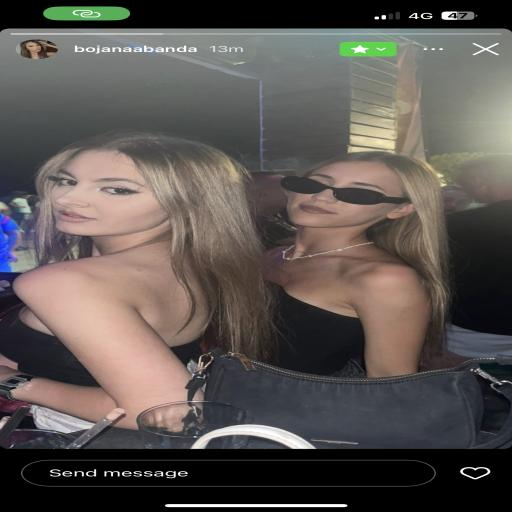masa: (291, 154, 422, 230)
